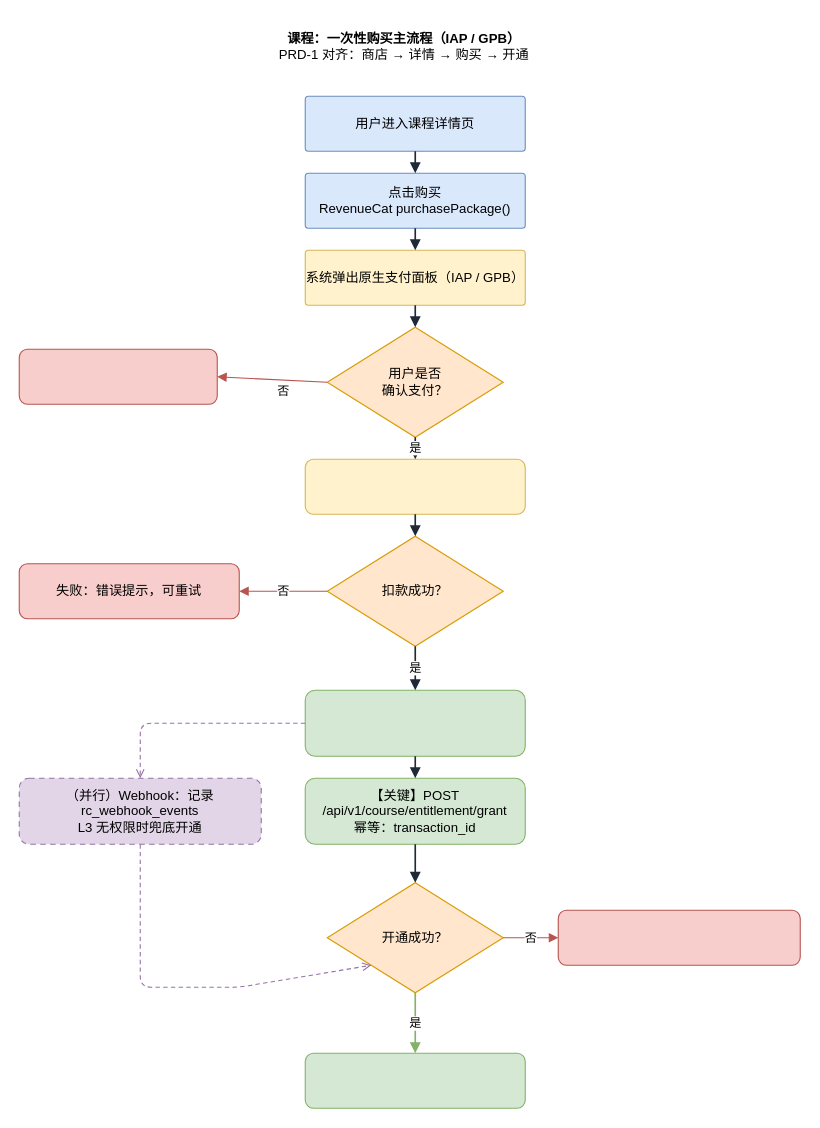
This 820x1128 diagram has some shape labels left out. Here are the shapes that lost their labels. From the top down, the box of each, then its label:
(18, 348, 217, 404): 取消：返回详情页
(304, 458, 525, 514): 平台处理扣款（Apple / Google）
(304, 689, 525, 756): RevenueCat 验证收据 SDK 成功回调（CustomerInfo + Transaction）
(557, 909, 800, 965): 失败：L1 重试 / L2 本地补偿 / L4 客服（见 F4a）
(304, 1052, 525, 1108): 成功：立即解锁 + 成功页（零等待）
